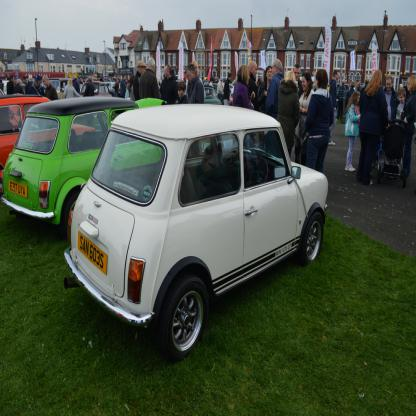Car: (0, 73, 330, 361)
